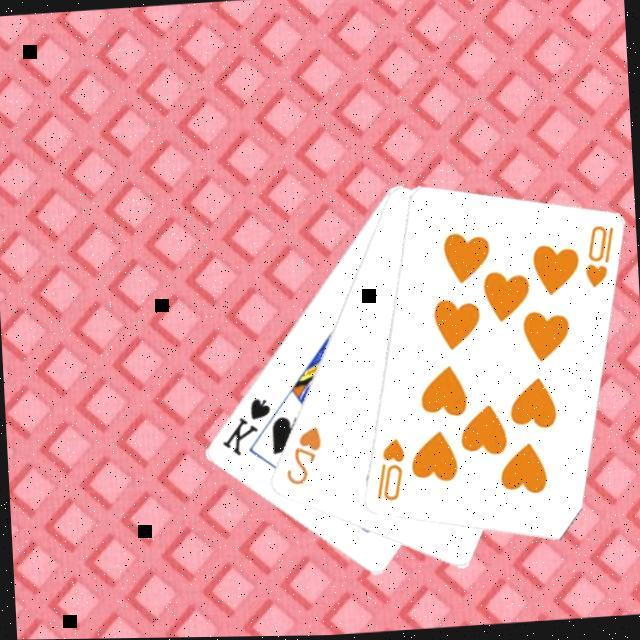10H: (579, 226, 621, 296), (371, 438, 411, 509)
2H: (281, 425, 327, 492)
KS: (216, 396, 277, 463)
